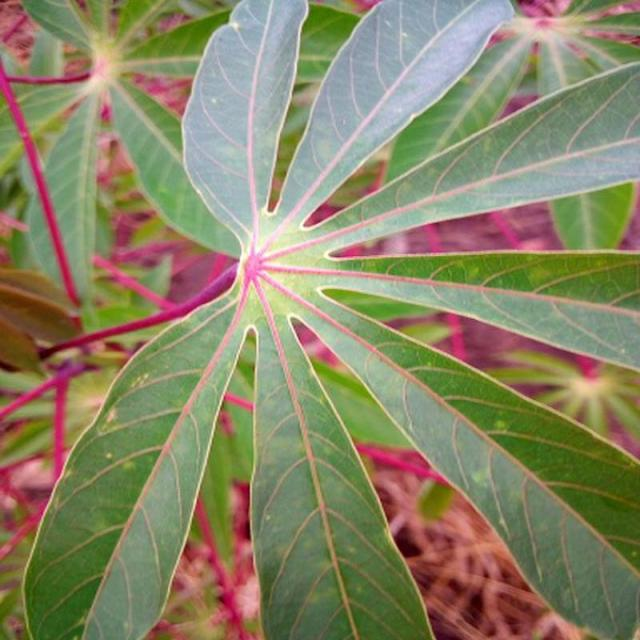cassava leaf: (19, 0, 638, 639)
